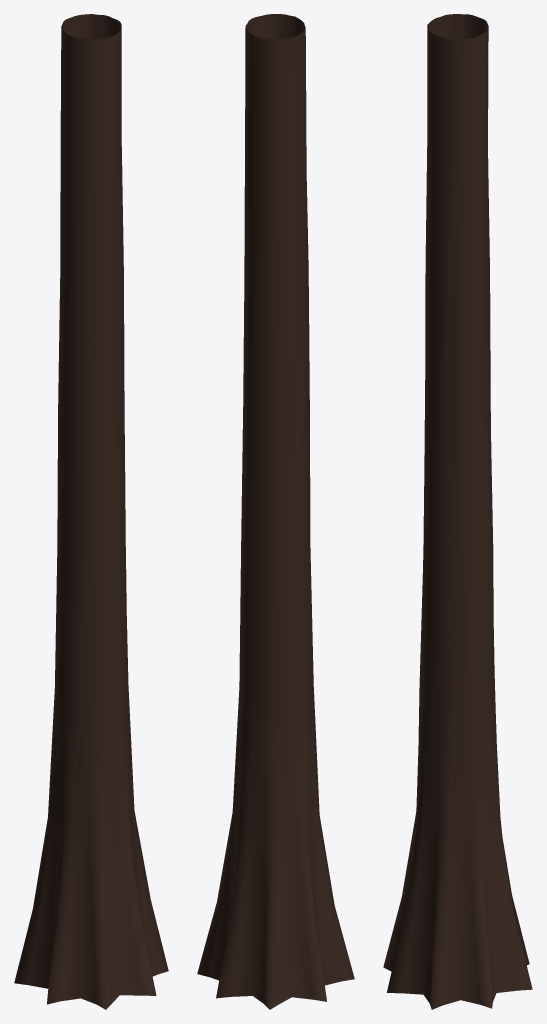
File: LeKoroTree.fbx
The picture shows the model from 3 angles, left to right: view 1: azimuth 30°, elevation 25°; view 2: azimuth 150°, elevation 25°; view 3: azimuth 270°, elevation 25°; orthographic projection.
Parts seen in each view (by area): view 1: Circle_004; view 2: Circle_004; view 3: Circle_004.
Boxes of the visible parts, x1=… form: Circle_004: x1=14, y1=14, x2=168, y2=1009; Circle_004: x1=197, y1=14, x2=354, y2=1009; Circle_004: x1=383, y1=14, x2=532, y2=1009.
Bounding box in the file's own units: 0.8457 × 5.98 × 0.8505.
